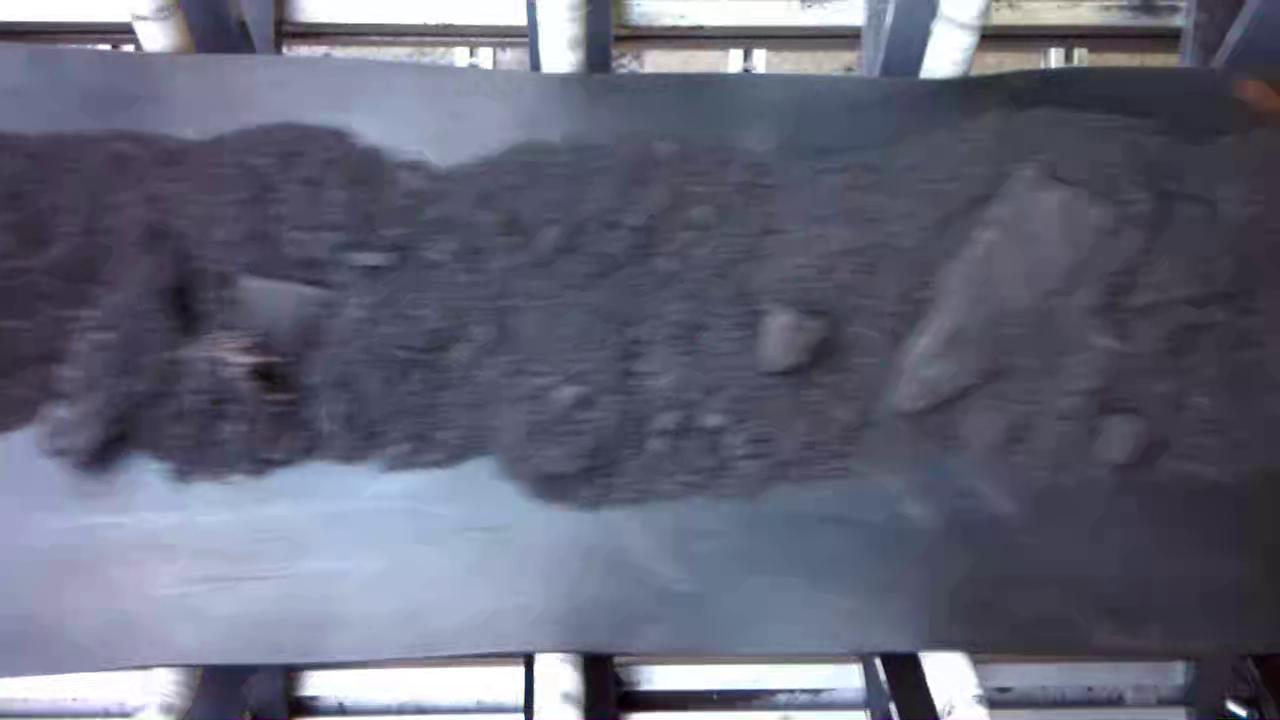conveyor: (5, 81, 1280, 648)
